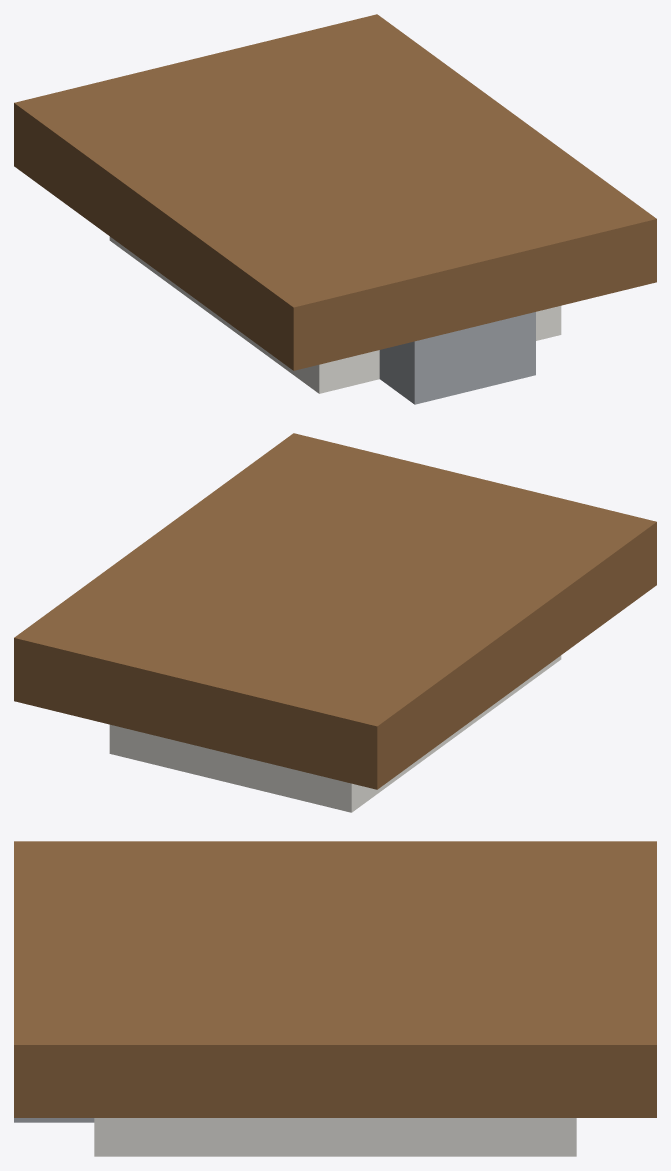
Rendered from clipboard.glb.
3 renders of one model, top to bottom at view 1: azimuth 30°, elevation 25°; view 2: azimuth 150°, elevation 25°; view 3: azimuth 270°, elevation 25°, orthographic. The views are drawn at different scales.
Parts seen in each view (by area): view 1: clipboard; view 2: clipboard; view 3: clipboard.
Part boxes in pixels (box(x1,y1,x2,y2)): clipboard: box(14, 14, 656, 404); clipboard: box(14, 433, 656, 812); clipboard: box(14, 841, 656, 1156).
Size of the model in its own units: 0.3 by 0.1 by 0.4.
Materials: 1 (1 with a texture image).
